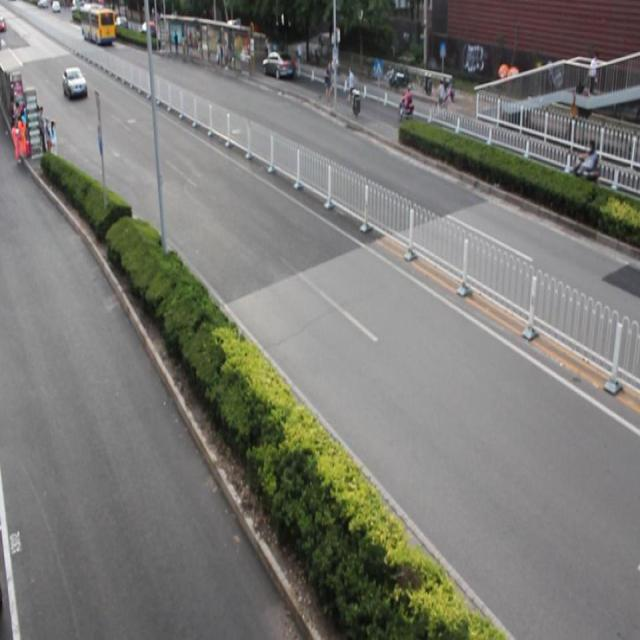car: (262, 50, 294, 82)
